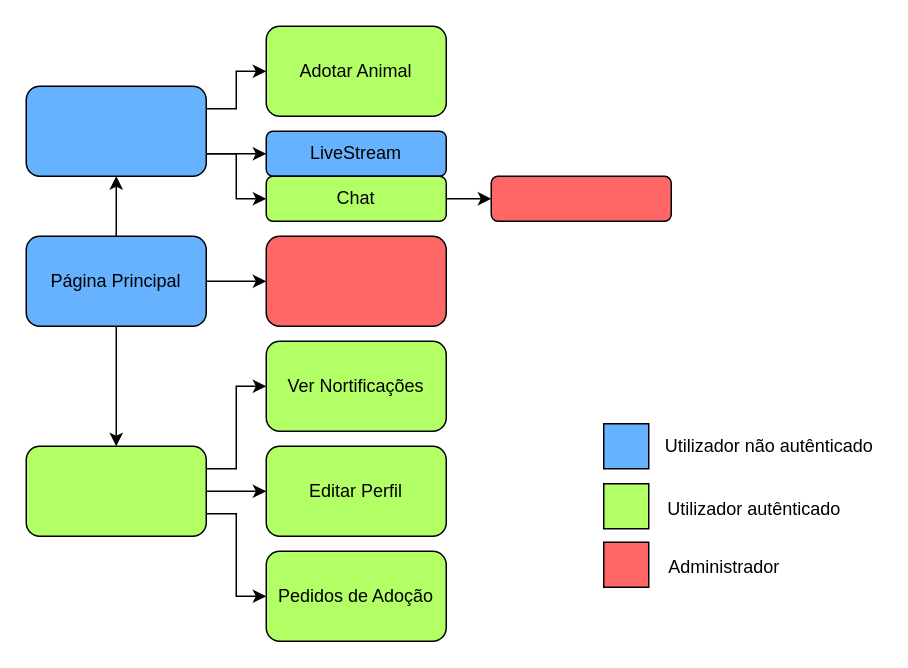
Image size: 908x668. Some labels were removed from this diagram. The shapes that lost their labels are listed below. From the top down, each one's centre as x and y in pixels, then its label:
At (115,130): "Ficha Animal".
At (580,198): "Expulsar Utilizador".
At (355,280): "Gestão de Utilizadores".
At (115,490): "Perfil".
